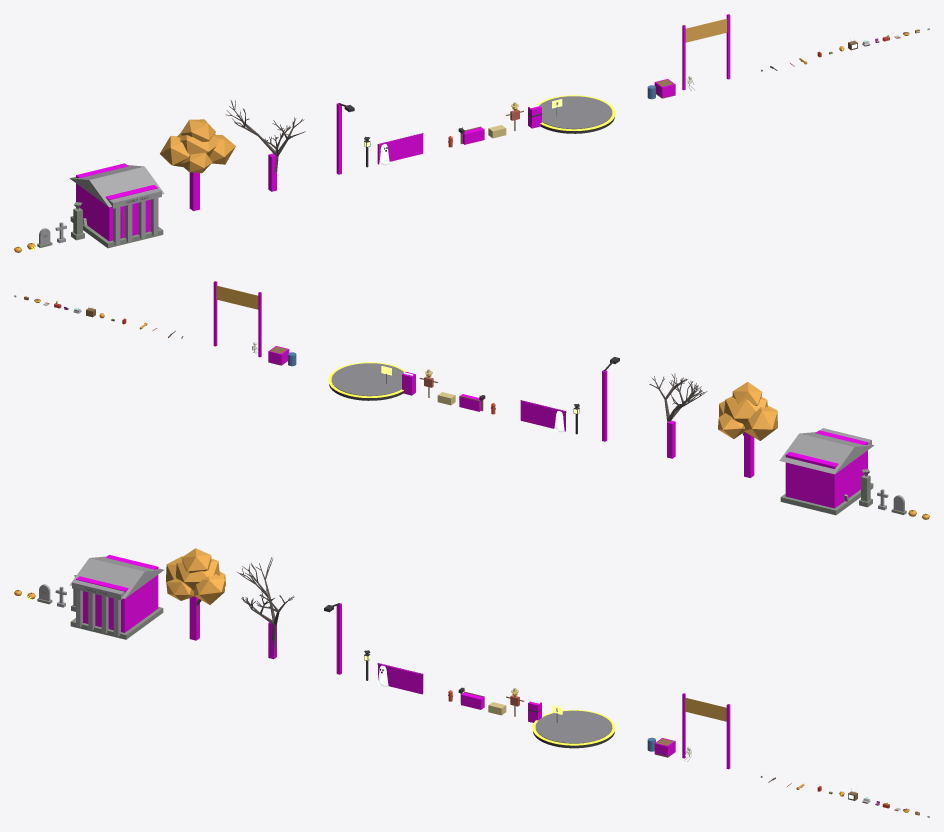
Rendered from props.glb.
3 views of the same model, one above another, from view 1: azimuth 30°, elevation 25°; view 2: azimuth 150°, elevation 25°; view 3: azimuth 330°, elevation 25° (orthographic).
Visible parts, largest first — view 1: Tree_Foliage, COL_Crypt, Turntable_Top, Crypt_Roof, Crypt_Columns, COL_Fence, DeadTree, Banner_Cloth, Crypt_Lintel, Crypt_Body; view 2: COL_Crypt, Tree_Foliage, Crypt_Roof, Turntable_Top, COL_Fence, DeadTree, Crypt_Body, Banner_Cloth; view 3: Tree_Foliage, COL_Crypt, Turntable_Top, Crypt_Roof, Crypt_Columns, DeadTree, COL_Fence, Banner_Cloth, Crypt_Body.
Part boxes in pixels (x1,y1,x2,y2): Tree_Foliage: (160,119,235,173); COL_Crypt: (76,163,158,241); Turntable_Top: (539,96,612,129); Crypt_Roof: (70,165,164,207); Crypt_Columns: (113,198,157,245); COL_Fence: (377,133,423,164); DeadTree: (225,100,305,172); Banner_Cloth: (685,18,727,42); Crypt_Lintel: (108,188,161,208); Crypt_Body: (70,216,163,248); COL_Crypt: (785,430,867,508); Tree_Foliage: (718,382,777,440); Crypt_Roof: (779,432,873,474); Turntable_Top: (331,363,403,396); COL_Fence: (520,400,565,431); DeadTree: (649,373,707,421); Crypt_Body: (780,483,873,515); Banner_Cloth: (216,285,258,309); Tree_Foliage: (166,548,225,604); COL_Crypt: (76,555,158,632); Turntable_Top: (535,710,612,743); Crypt_Roof: (69,556,164,598); Crypt_Columns: (76,589,120,636); DeadTree: (237,557,294,657); COL_Fence: (378,663,423,694); Banner_Cloth: (685,697,726,721); Crypt_Body: (70,607,163,639).
Bounding box in the file's own units: 82.32 × 7.68 × 6.56.
